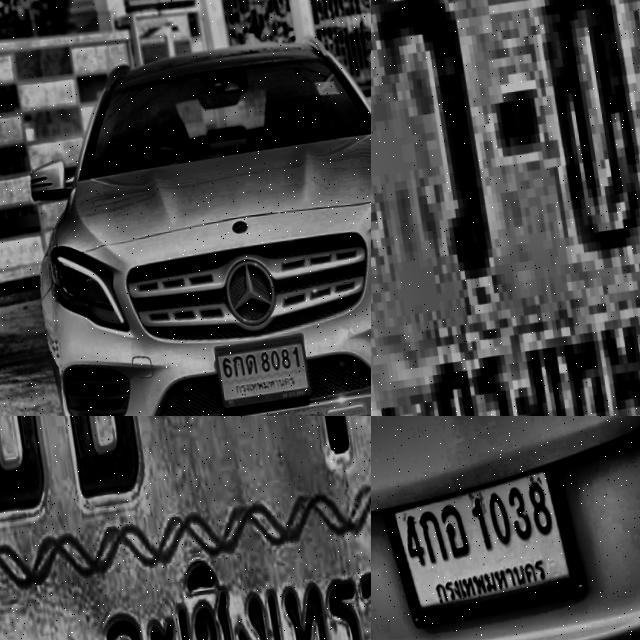license-plate: (371, 0, 640, 416), (0, 416, 371, 640), (371, 457, 584, 639), (205, 334, 308, 412)
